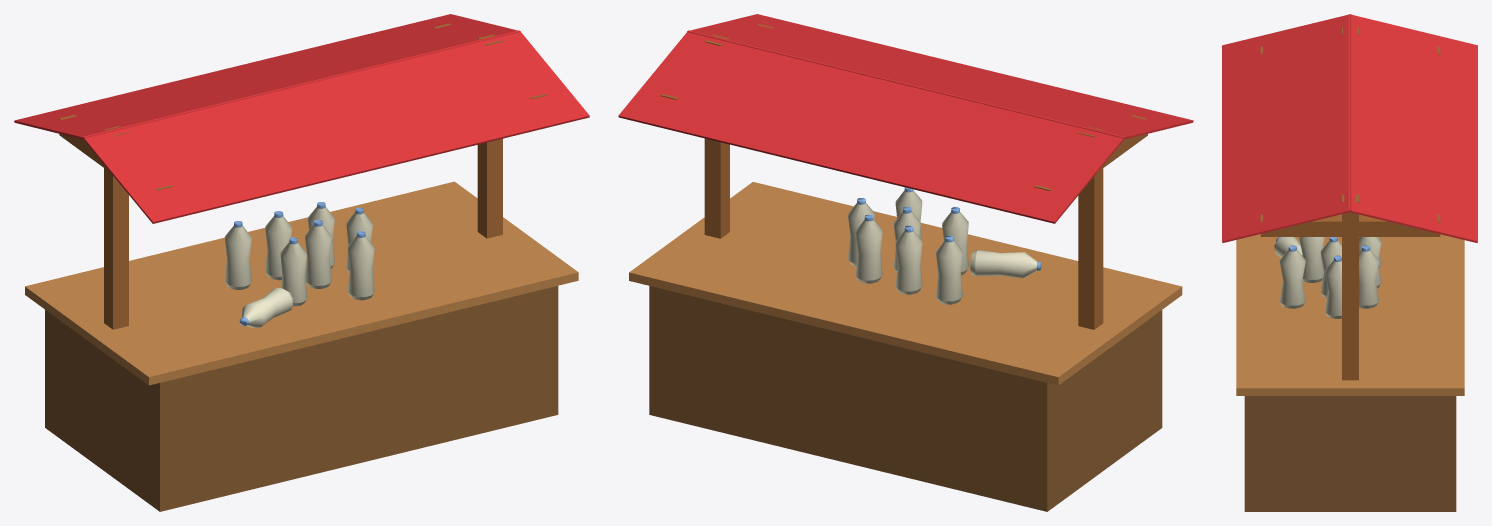
The model's file is Market_stall.fbx.
3 views of the same model, side by side, from view 1: azimuth 30°, elevation 25°; view 2: azimuth 150°, elevation 25°; view 3: azimuth 270°, elevation 25° (orthographic). The views are drawn at different scales.
Visible parts, largest first — view 1: Cube, Cube.001, Cube.006, Cube.007, Cube.003, Cube.002, Cylinder, Cylinder.006, Cylinder.002, Lege fles, Cylinder.001, Cylinder.004 (+1 smaller); view 2: Cube, Cube.001, Cube.007, Cube.006, Cube.003, Cube.002, Cylinder.001, Cylinder.003, Cylinder.004, Cylinder.006, Lege fles, Cylinder.005; view 3: Cube.001, Cube.006, Cube.007, Cube, Cube.002, Cube.005, Cylinder, Cylinder.003, Lege fles, Cylinder.005, Cylinder.002, Cylinder.004 (+1 smaller).
Part boxes in pixels (x1,y1,x2,y2): Cube: (45, 286, 558, 511); Cube.001: (25, 181, 578, 385); Cube.006: (82, 30, 589, 223); Cube.007: (14, 14, 520, 139); Cube.003: (104, 126, 128, 329); Cube.002: (477, 34, 502, 238); Cylinder: (347, 231, 374, 300); Cylinder.006: (224, 221, 251, 289); Cylinder.002: (305, 219, 331, 288); Lege fles: (280, 237, 307, 306); Cylinder.001: (239, 287, 293, 327); Cylinder.004: (265, 211, 292, 280); Cube: (649, 286, 1162, 511); Cube.001: (629, 182, 1182, 385); Cube.007: (618, 30, 1124, 223); Cube.006: (687, 14, 1193, 139); Cube.003: (1078, 126, 1103, 329); Cube.002: (704, 35, 729, 238); Cylinder.001: (970, 250, 1041, 278); Cylinder.003: (855, 214, 882, 283); Cylinder.004: (895, 225, 922, 294); Cylinder.006: (936, 235, 962, 304); Lege fles: (942, 207, 968, 274); Cylinder.005: (848, 198, 874, 266); Cube.001: (1236, 214, 1464, 395); Cube.006: (1222, 14, 1351, 242); Cube.007: (1348, 14, 1477, 242); Cube: (1244, 396, 1456, 511); Cube.002: (1342, 194, 1358, 380); Cube.005: (1260, 214, 1440, 236); Cylinder: (1279, 245, 1305, 308); Cylinder.003: (1359, 245, 1378, 308); Lege fles: (1299, 237, 1324, 282); Cylinder.005: (1325, 255, 1341, 318); Cylinder.002: (1320, 237, 1341, 298); Cylinder.004: (1359, 237, 1381, 288).
Size of the model in its own units: 1096 by 809 by 604.
